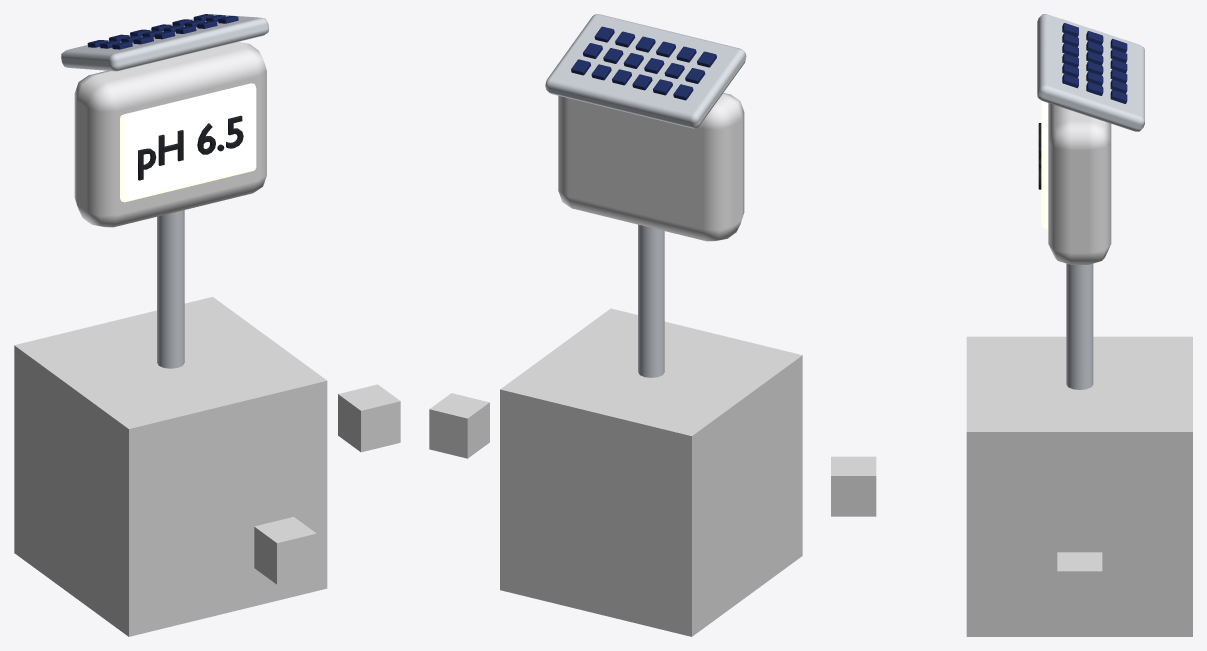
Rendered from SoilSensor.fbx.
The picture shows the model from 3 angles, left to right: view 1: azimuth 30°, elevation 25°; view 2: azimuth 150°, elevation 25°; view 3: azimuth 270°, elevation 25°; orthographic projection. The views are drawn at different scales.
Parts seen in each view (by area): view 1: Origin__Pivot, Body__White, Body__NeonGreen, Body__Chrome, Origin__AxisZ, Origin__AxisX, Body__SolarCell, Body__Black; view 2: Origin__Pivot, Body__White, Body__Chrome, Body__SolarCell, Origin__AxisX; view 3: Origin__Pivot, Body__Chrome, Body__White, Body__SolarCell, Origin__AxisX, Origin__AxisZ, Body__NeonGreen.
Boxes of the visible parts, x1,y1,x2,y2 form: Origin__Pivot: (14, 297, 327, 636); Body__White: (74, 42, 266, 227); Body__NeonGreen: (120, 83, 256, 202); Body__Chrome: (61, 14, 268, 368); Origin__AxisZ: (254, 517, 316, 584); Origin__AxisX: (338, 384, 400, 452); Body__SolarCell: (87, 14, 238, 49); Body__Black: (138, 115, 243, 180); Origin__Pivot: (500, 308, 802, 636); Body__White: (558, 93, 744, 241); Body__Chrome: (545, 14, 746, 377); Body__SolarCell: (571, 26, 716, 100); Origin__AxisX: (429, 393, 489, 458); Origin__Pivot: (966, 336, 1192, 636); Body__Chrome: (1037, 14, 1144, 389); Body__White: (1048, 103, 1111, 264); Body__SolarCell: (1062, 23, 1127, 103); Origin__AxisX: (1057, 552, 1102, 612); Origin__AxisZ: (831, 456, 876, 516); Body__NeonGreen: (1041, 100, 1048, 228).
Bounding box in the file's own units: 1.6 × 2.63 × 1.6.
